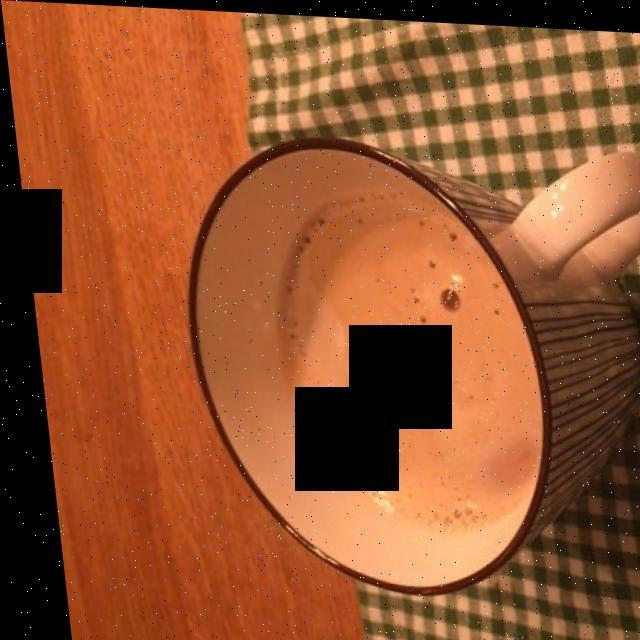coffee: (277, 197, 521, 522)
